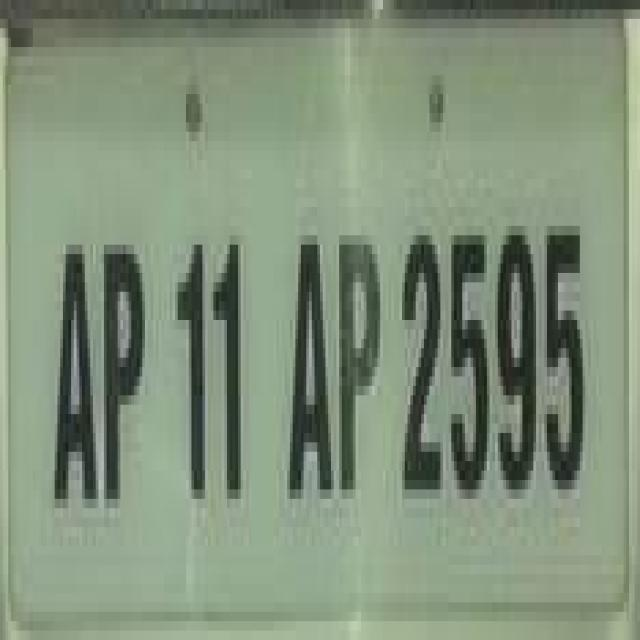license_plate: (3, 19, 599, 593)
